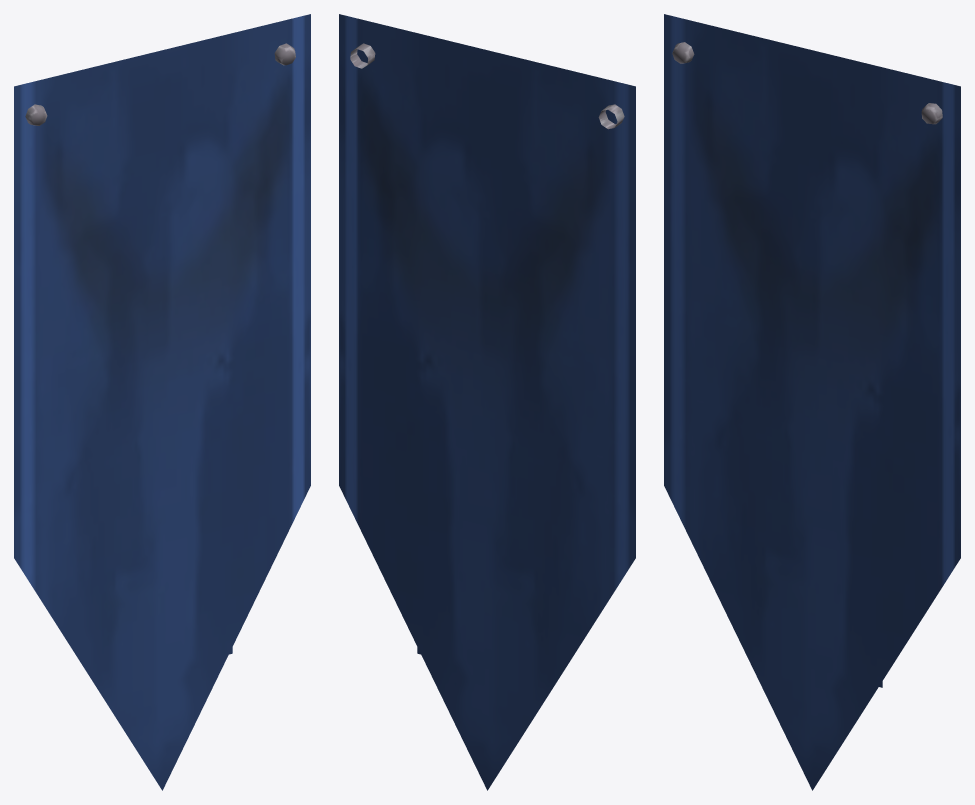
Rendered from prop_banner.glb.
The picture shows the model from 3 angles, left to right: view 1: azimuth 30°, elevation 25°; view 2: azimuth 150°, elevation 25°; view 3: azimuth 330°, elevation 25°; orthographic projection.
Visible parts, largest first — view 1: Banner_2_Cloth; view 2: Banner_2_Cloth; view 3: Banner_2_Cloth.
Boxes of the visible parts, <box> form: Banner_2_Cloth: <box>14,14,310,790</box>; Banner_2_Cloth: <box>339,14,635,790</box>; Banner_2_Cloth: <box>664,14,960,790</box>.
Bounding box in the file's own units: 0.8102 × 1.93 × 0.0568.
Materials: 2 (2 with a texture image).
